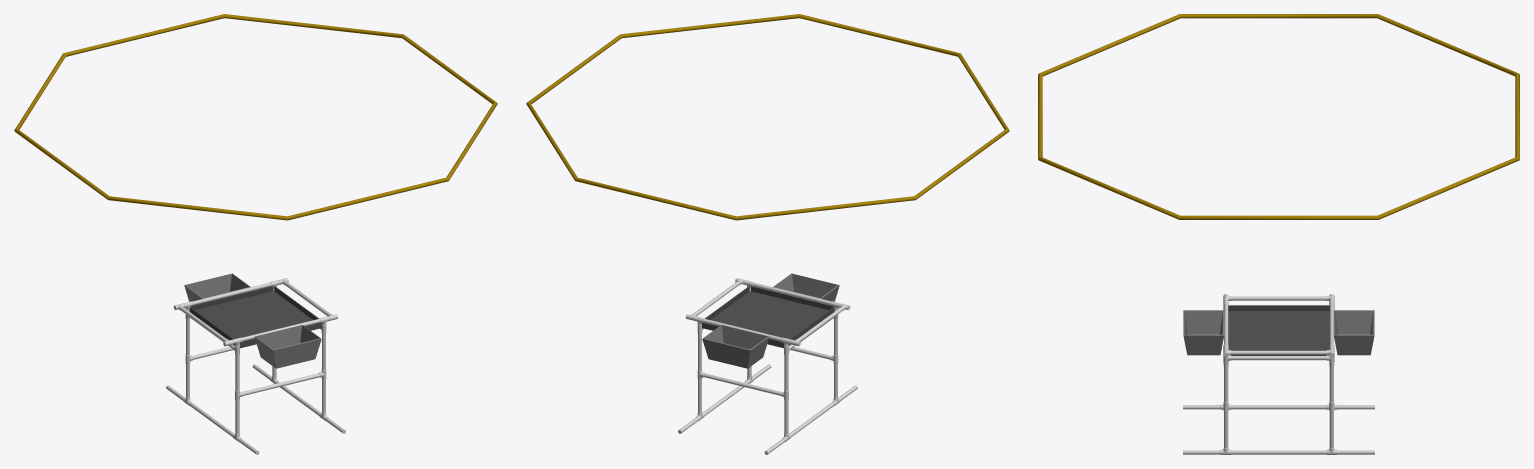
The model's file is octagon.dae.
3 renders of one model, left to right at view 1: azimuth 30°, elevation 25°; view 2: azimuth 150°, elevation 25°; view 3: azimuth 270°, elevation 25°, orthographic. The views are drawn at different scales.
Visible parts, largest first — view 1: octagon_top, octagon_frame, octagon_middle, octagon_basket_4, octagon_basket_2; view 2: octagon_top, octagon_frame, octagon_middle, octagon_basket_2, octagon_basket_4; view 3: octagon_top, octagon_frame, octagon_middle, octagon_basket_4, octagon_basket_2.
Boxes of the visible parts, x1,y1,x2,y2 form: octagon_top: (14,14,497,220); octagon_frame: (166,278,345,454); octagon_middle: (189,286,321,347); octagon_basket_4: (254,325,321,368); octagon_basket_2: (184,273,250,301); octagon_top: (526,14,1009,220); octagon_frame: (678,278,857,454); octagon_middle: (702,286,834,347); octagon_basket_2: (702,325,769,368); octagon_basket_4: (773,273,839,301); octagon_top: (1038,14,1519,219); octagon_frame: (1183,294,1374,454); octagon_middle: (1228,305,1329,355); octagon_basket_4: (1183,310,1224,355); octagon_basket_2: (1333,310,1374,355).
Size of the model in its own units: 2.77 by 2.77 by 2.01.
